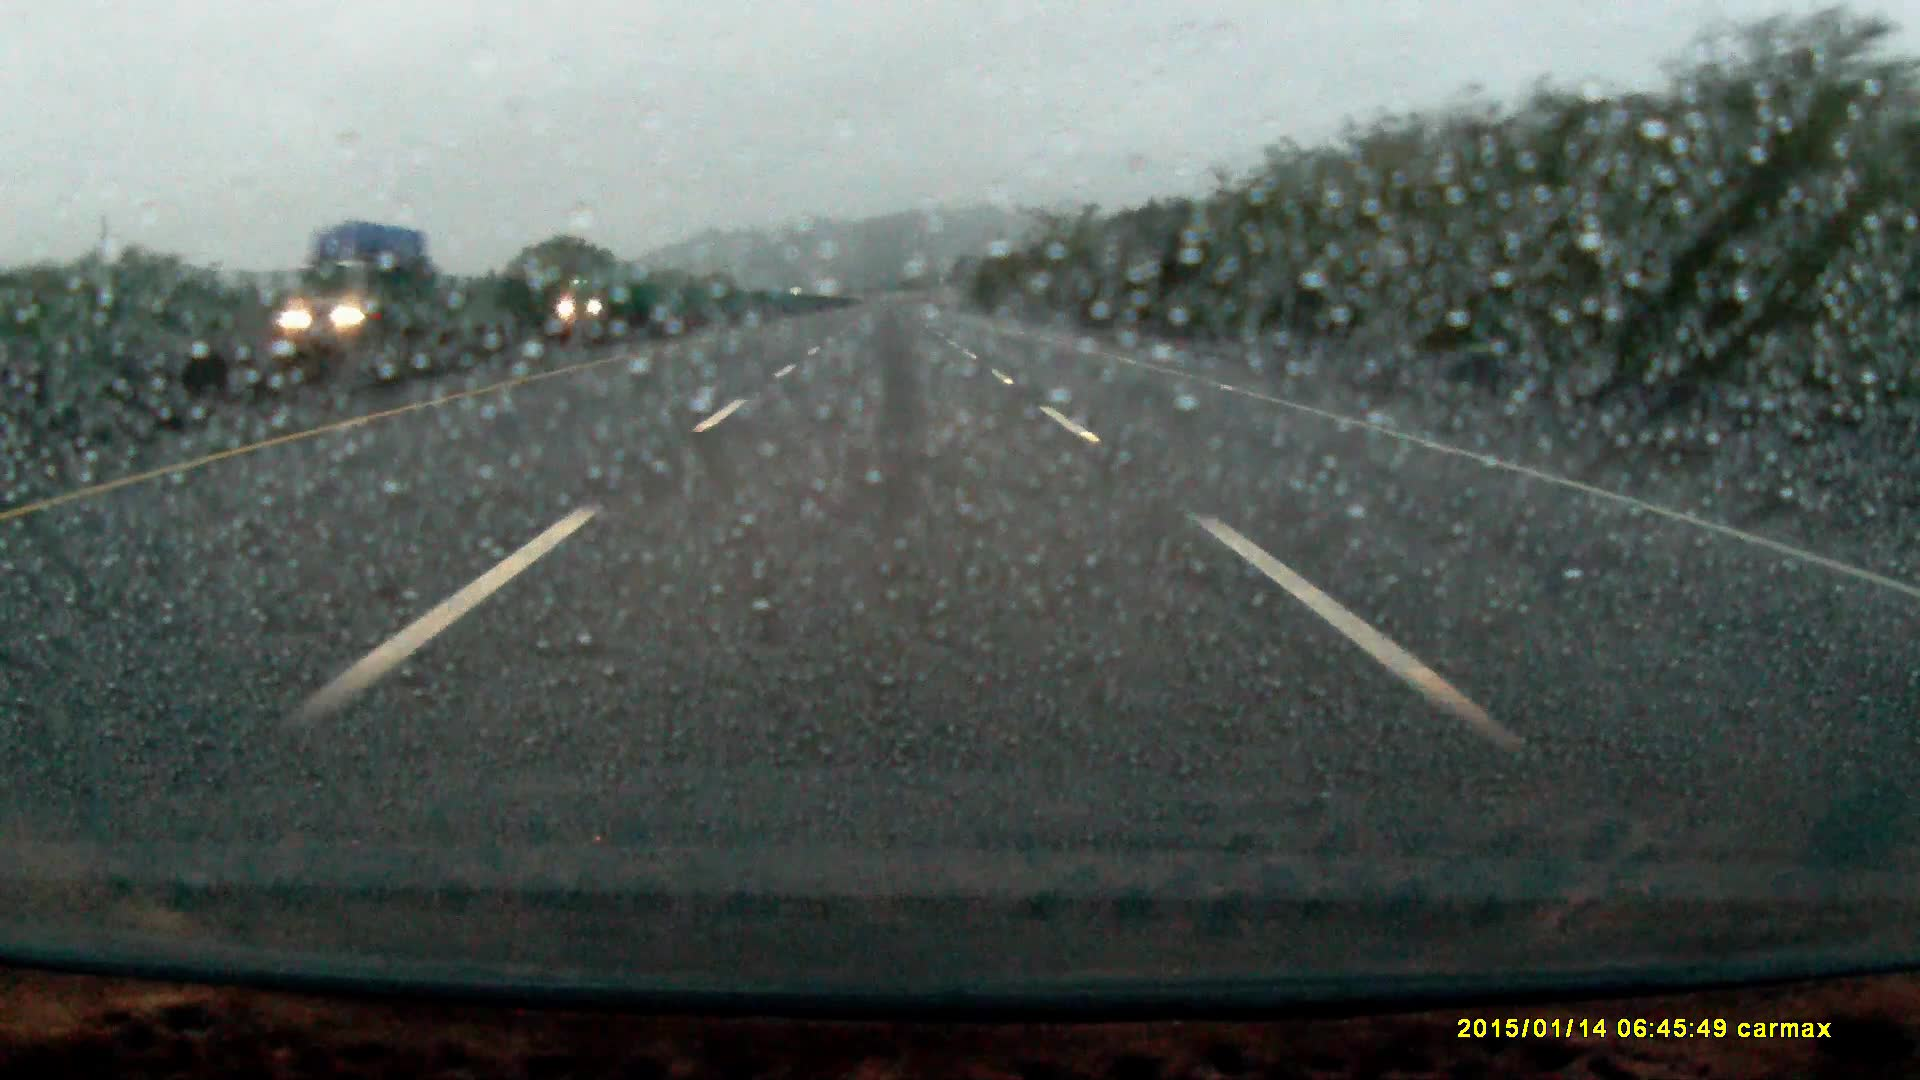vehicle: (284, 225, 414, 342), (559, 266, 640, 327)
